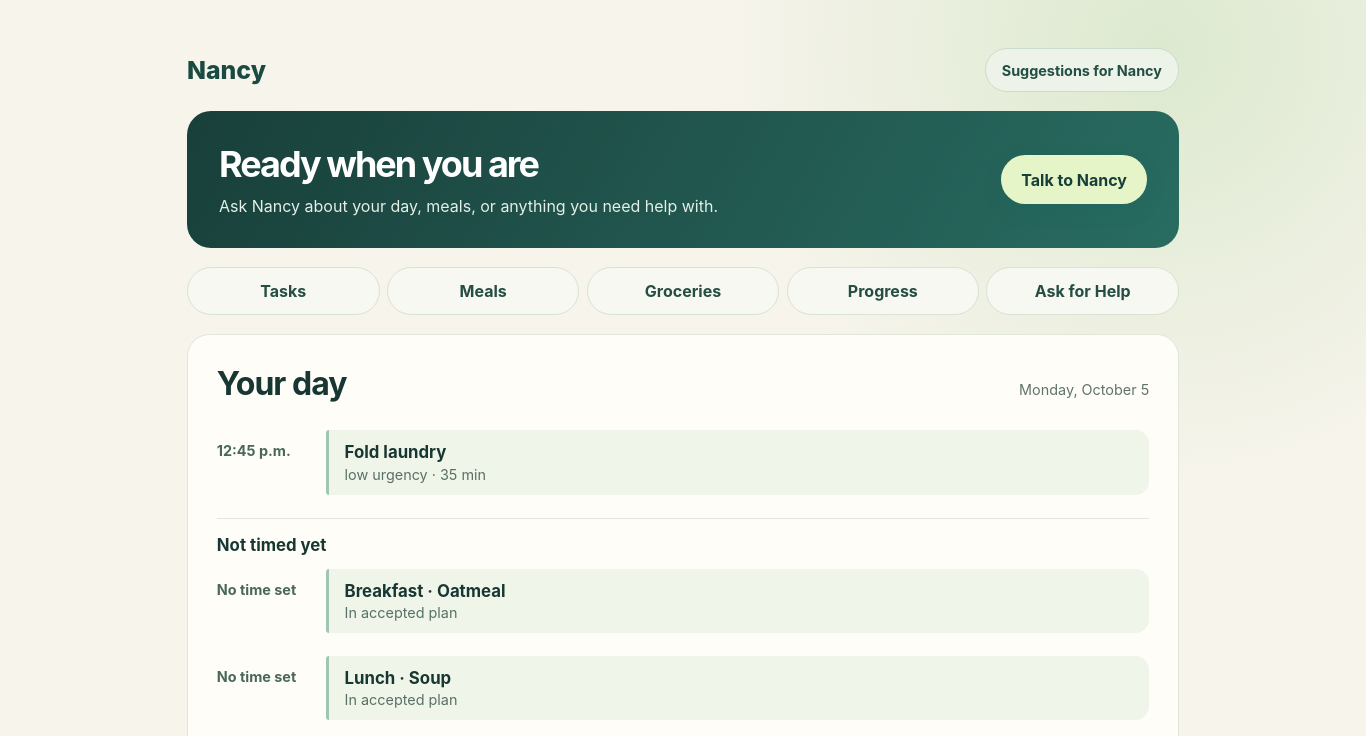
Test: My Day client workflow › shows accepted task timing and only saved meal choices
Check: the text "12:45 p.m." is shown, box [217,442,291,459]
Click the button "Tasks".
click(283, 291)  # box [187,267,380,315]
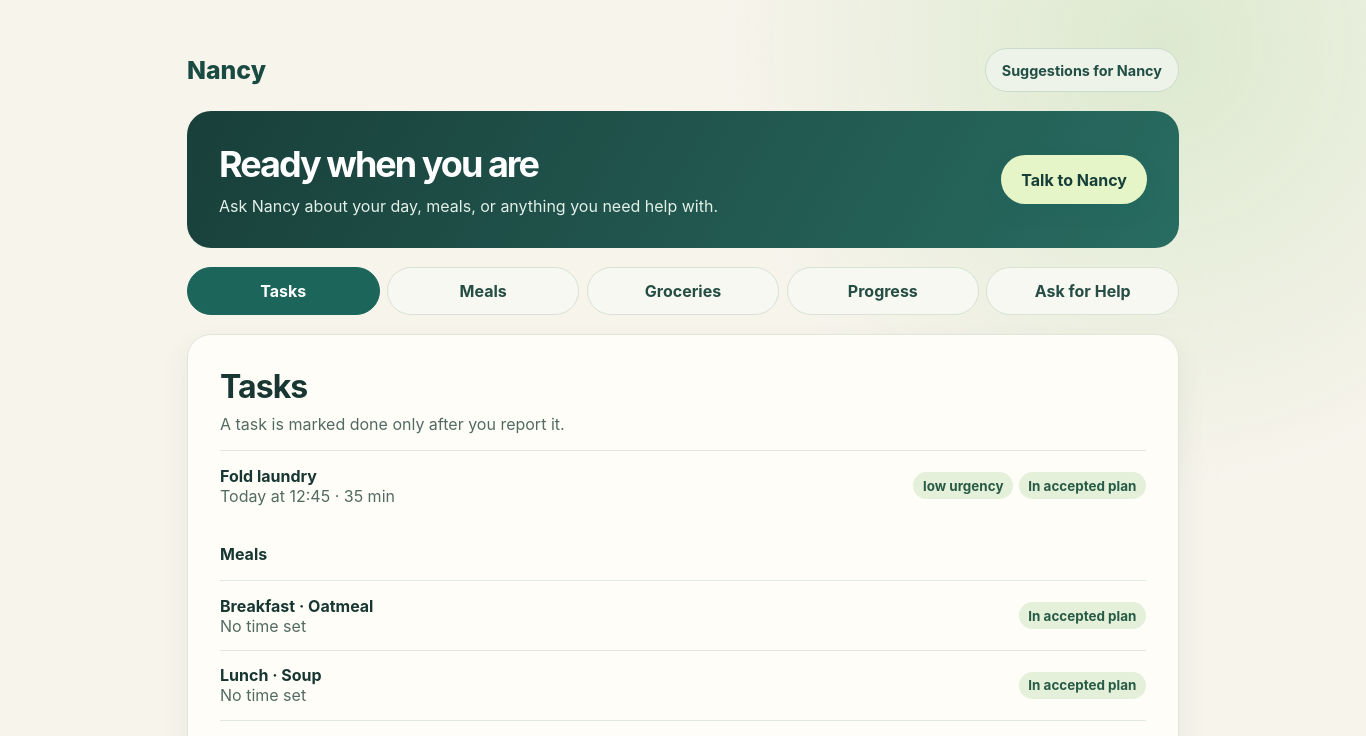
Check: the text "low urgency" is shown, box [914,472,1013,499]
Check: the text "Today at 12:45 · 35 min" is shown, box [220,486,395,506]
